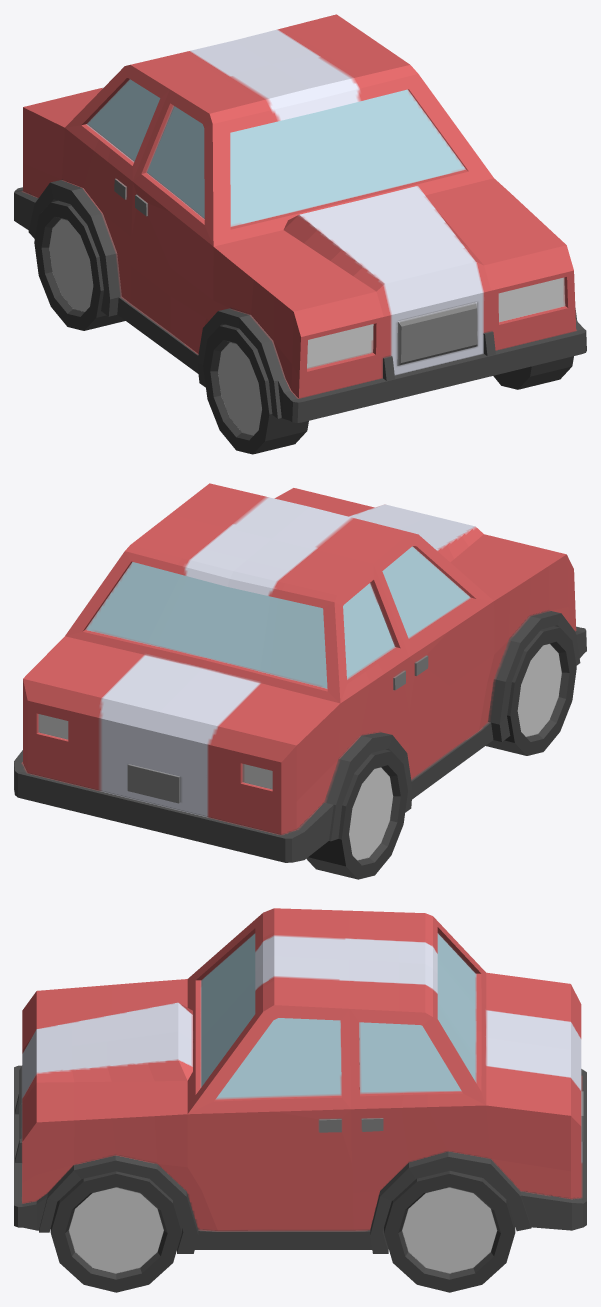
File: 06 Car Square.fbx
3 renders of one model, top to bottom at view 1: azimuth 30°, elevation 25°; view 2: azimuth 150°, elevation 25°; view 3: azimuth 270°, elevation 25°, orthographic.
Visible parts, largest first — view 1: 06 Car Body, 06 Car Front Wheel R, 06 Car Back Wheel R, 06 Car Front Wheel L; view 2: 06 Car Body, 06 Car Back Wheel R, 06 Car Front Wheel R; view 3: 06 Car Body, 06 Car Back Wheel L, 06 Car Front Wheel L.
Part boxes in pixels (x1,y1,x2,y2): 06 Car Body: [14, 14, 586, 422]; 06 Car Front Wheel R: [203, 324, 308, 454]; 06 Car Back Wheel R: [34, 200, 125, 330]; 06 Car Front Wheel L: [493, 356, 573, 389]; 06 Car Body: [14, 483, 586, 862]; 06 Car Back Wheel R: [306, 749, 407, 879]; 06 Car Front Wheel R: [486, 626, 576, 755]; 06 Car Body: [14, 908, 586, 1253]; 06 Car Back Wheel L: [384, 1171, 515, 1292]; 06 Car Front Wheel L: [50, 1171, 181, 1292].
Bounding box in the file's own units: 59.7 × 49.39 × 97.57.
Materials: 1 (1 with a texture image).
